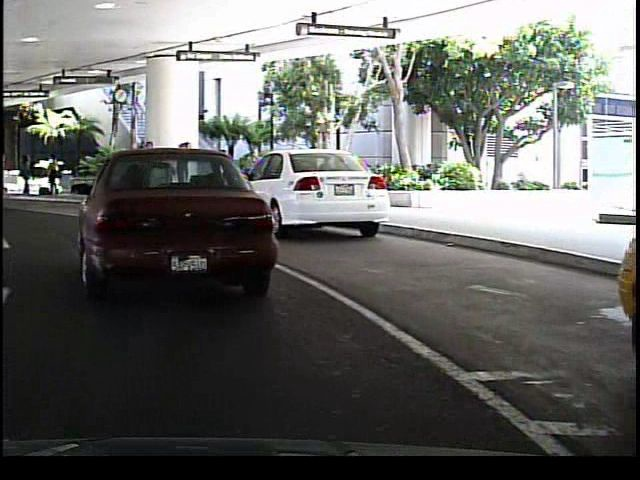person: (136, 135, 159, 205), (170, 137, 195, 201), (208, 145, 235, 197), (43, 154, 68, 197), (240, 145, 263, 190), (18, 148, 36, 198)
